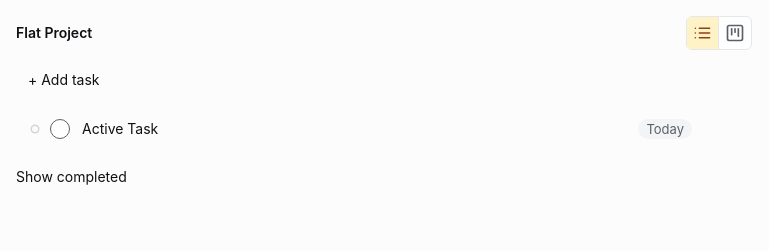
Test case: FlatListView › clicking "Show N completed" reveals completed tasks
Click the button "Show completed": (71, 176) [16, 160, 127, 193]
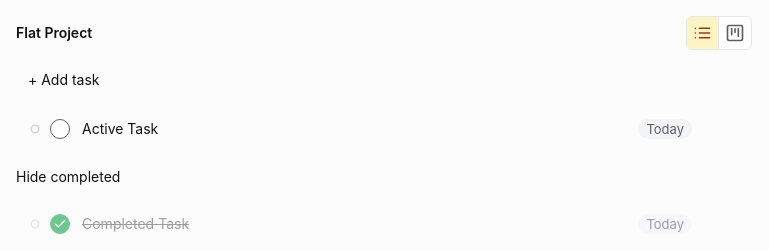
Expected: the button "Completed Task" is shown, [82, 214, 626, 234]
